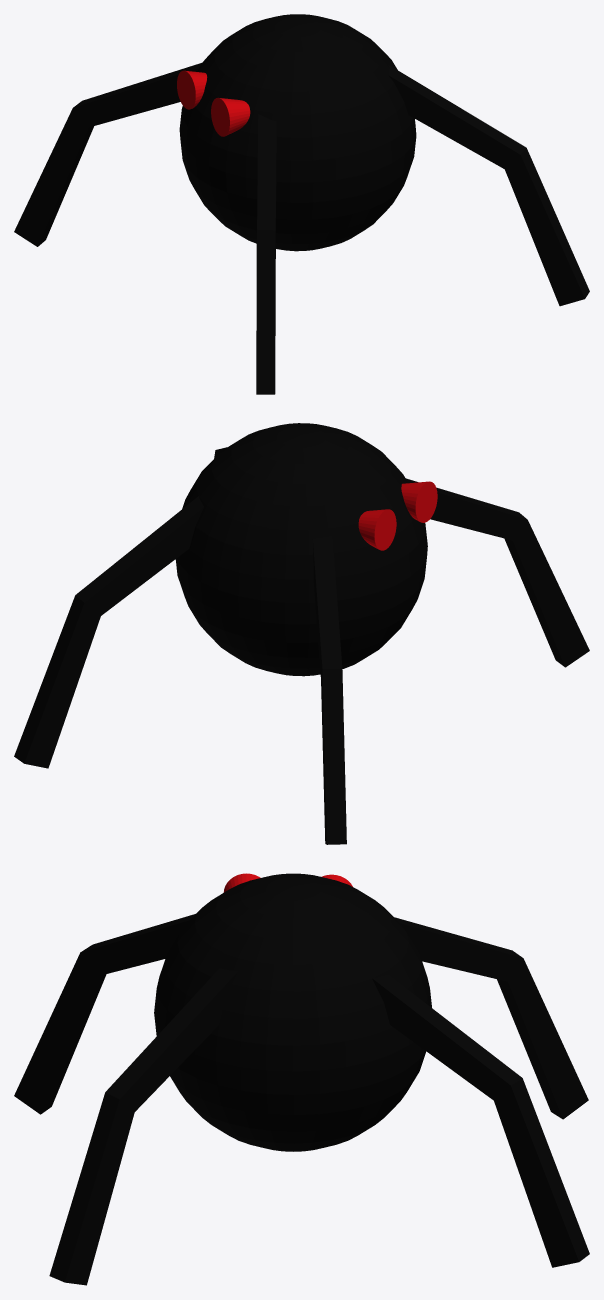
File: Robot.obj
3 renders of one model, top to bottom at view 1: azimuth 30°, elevation 25°; view 2: azimuth 150°, elevation 25°; view 3: azimuth 270°, elevation 25°, orthographic. The views are drawn at different scales.
Visible parts, largest first — view 1: Sphere_Sphere.001, Cube.004_Cube.005, Cube.001_Cube.002, Cube.003_Cube.004, Cone.001, Cone; view 2: Sphere_Sphere.001, Cube.002_Cube.003, Cube.003_Cube.004, Cube.001_Cube.002, Cone, Cone.001; view 3: Sphere_Sphere.001, Cube.002_Cube.003, Cube.004_Cube.005, Cube.001_Cube.002, Cube.003_Cube.004.
Boxes of the visible parts, x1=… form: Sphere_Sphere.001: x1=179, y1=14, x2=416, y2=251; Cube.004_Cube.005: x1=388, y1=65, x2=589, y2=306; Cube.001_Cube.002: x1=14, y1=63, x2=201, y2=246; Cube.003_Cube.004: x1=256, y1=114, x2=276, y2=394; Cone.001: x1=211, y1=98, x2=250, y2=136; Cone: x1=177, y1=70, x2=207, y2=109; Sphere_Sphere.001: x1=175, y1=423, x2=427, y2=676; Cube.002_Cube.003: x1=14, y1=496, x2=203, y2=768; Cube.003_Cube.004: x1=406, y1=478, x2=589, y2=667; Cube.001_Cube.002: x1=313, y1=535, x2=346, y2=844; Cone: x1=358, y1=509, x2=396, y2=550; Cone.001: x1=401, y1=481, x2=437, y2=522; Sphere_Sphere.001: x1=154, y1=873, x2=431, y2=1151; Cube.002_Cube.003: x1=372, y1=974, x2=589, y2=1267; Cube.004_Cube.005: x1=49, y1=968, x2=238, y2=1285; Cube.001_Cube.002: x1=394, y1=917, x2=588, y2=1119; Cube.003_Cube.004: x1=14, y1=914, x2=195, y2=1114.
Size of the model in its own units: 10.45 by 7.41 by 12.41.
